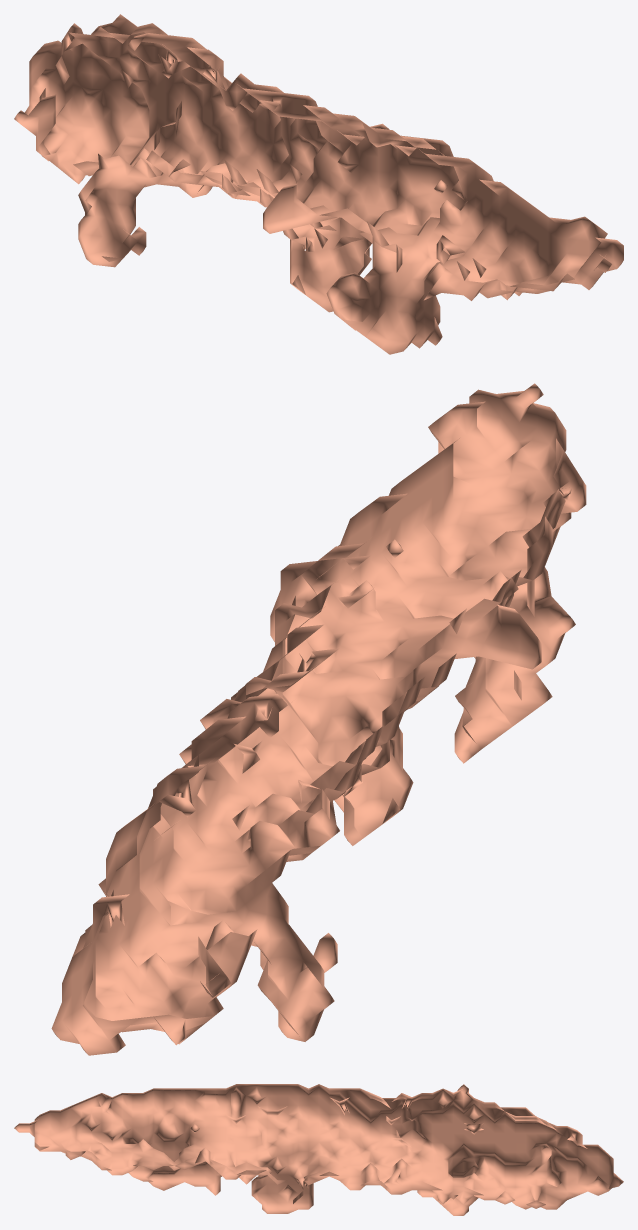
File: osteocyte_119.glb
3 views of the same model, one above another, from view 1: azimuth 30°, elevation 25°; view 2: azimuth 150°, elevation 25°; view 3: azimuth 270°, elevation 25° (orthographic). The views are drawn at different scales.
Parts seen in each view (by area): view 1: osteocyte_119; view 2: osteocyte_119; view 3: osteocyte_119.
Part boxes in pixels (<box>): osteocyte_119: <box>14,14,623,354</box>; osteocyte_119: <box>51,383,586,1055</box>; osteocyte_119: <box>14,1084,623,1215</box>.
Size of the model in its own units: 6.71 by 6.71 by 26.38.
